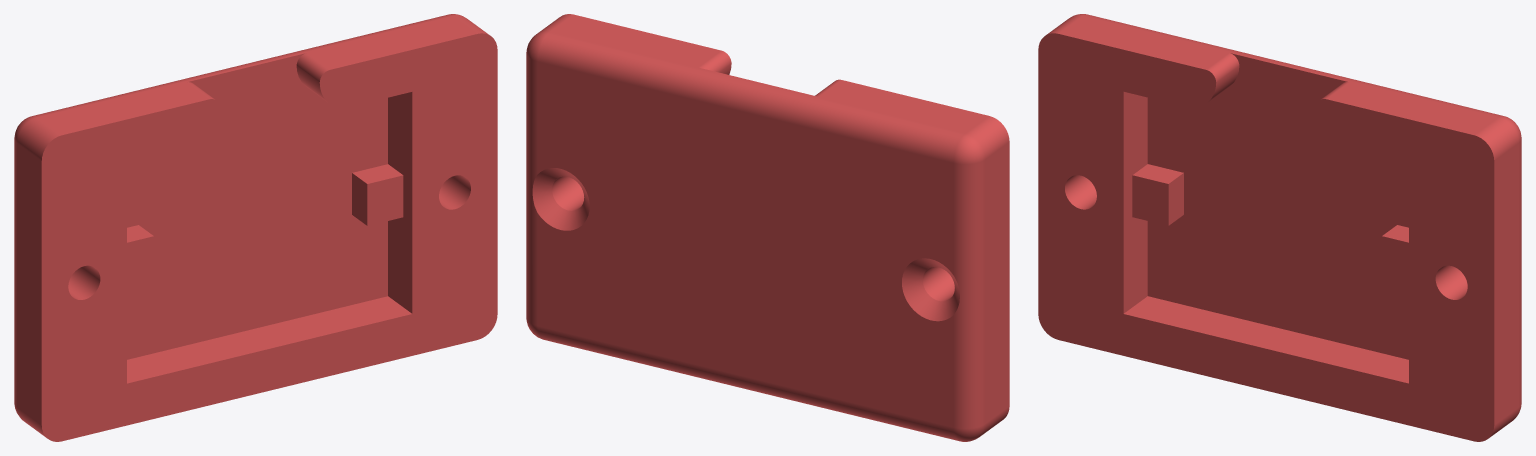
The model's file is Top57mmTrackball v18 - Back.fbx.
3 views of the same model, side by side, from view 1: azimuth 30°, elevation 25°; view 2: azimuth 150°, elevation 25°; view 3: azimuth 330°, elevation 25° (orthographic).
Parts seen in each view (by area): view 1: Top57mmTrackball v18 - Back; view 2: Top57mmTrackball v18 - Back; view 3: Top57mmTrackball v18 - Back.
Part boxes in pixels (box(x1,y1,x2,y2)): Top57mmTrackball v18 - Back: box(14, 14, 497, 441); Top57mmTrackball v18 - Back: box(526, 14, 1009, 441); Top57mmTrackball v18 - Back: box(1038, 14, 1521, 441).
Size of the model in its own units: 45.5 by 29.2 by 6.2.
